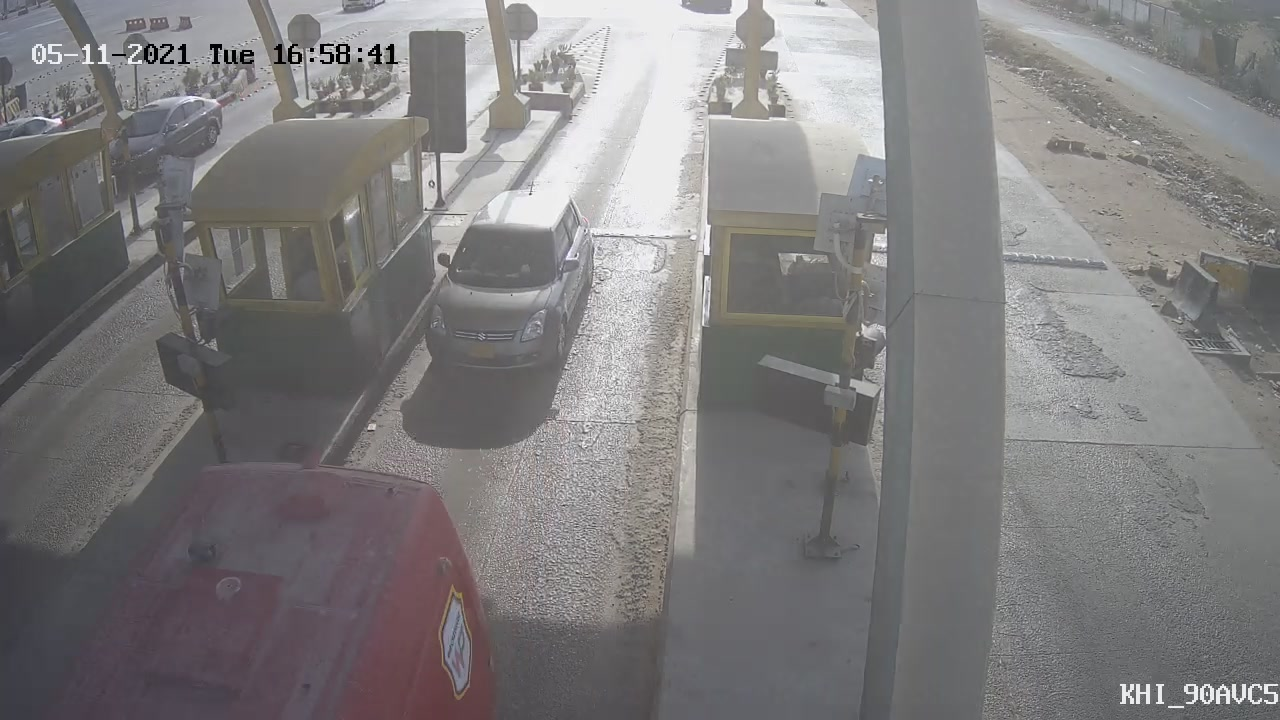F1: (409, 172, 616, 395)
